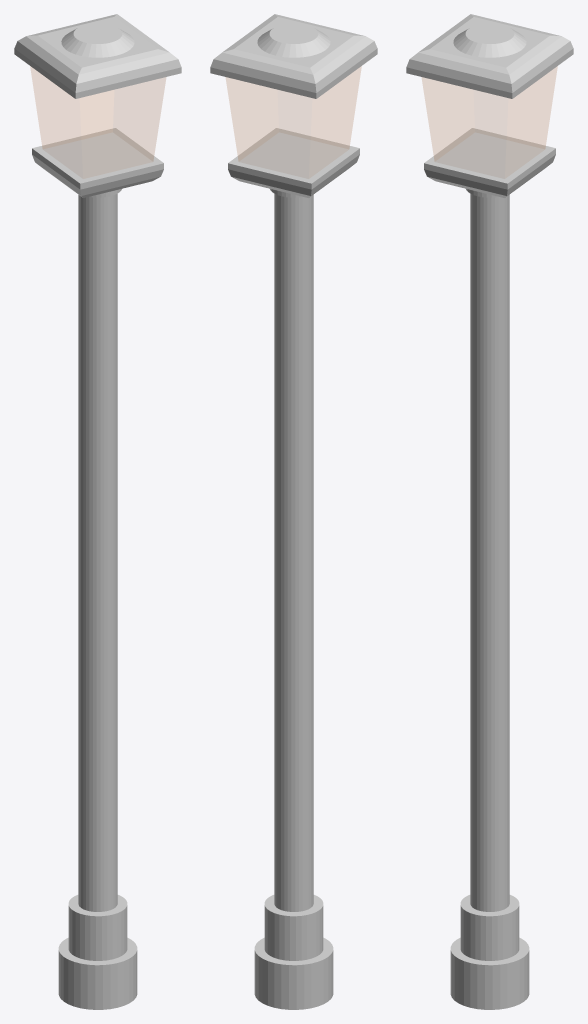
File: Lampadaire.fbx
3 renders of one model, left to right at view 1: azimuth 30°, elevation 25°; view 2: azimuth 150°, elevation 25°; view 3: azimuth 330°, elevation 25°, orthographic.
Visible parts, largest first — view 1: Lampadaire; view 2: Lampadaire; view 3: Lampadaire.
Part boxes in pixels (left/top/right/bottom): Lampadaire: left=14, top=14, right=181, bottom=1009; Lampadaire: left=210, top=14, right=377, bottom=1009; Lampadaire: left=406, top=14, right=573, bottom=1009.
Bounding box in the file's own units: 0.4646 × 4.02 × 0.4646.
